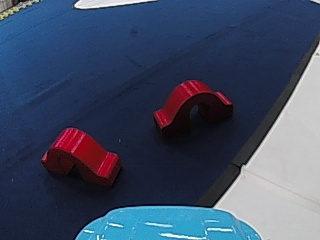bridge: (38, 124, 127, 191), (147, 76, 234, 135)
